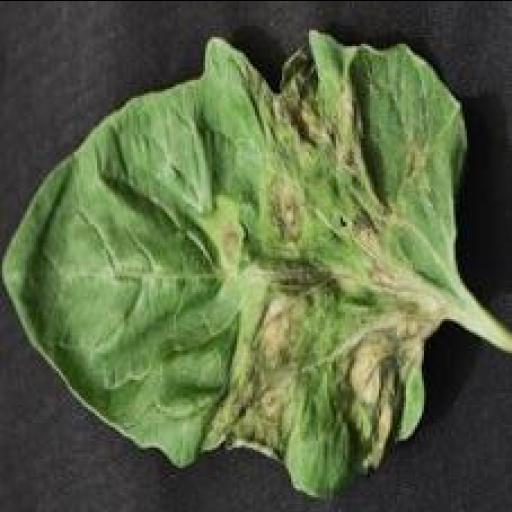disease_tomato: (0, 21, 512, 502)
